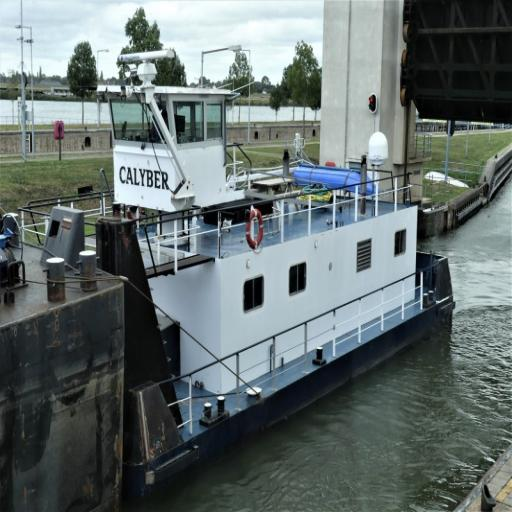tugboat: (26, 48, 460, 499)
